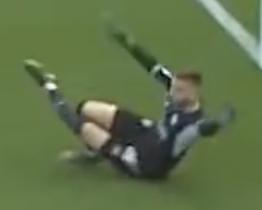goalkeeper: (17, 9, 233, 185)
